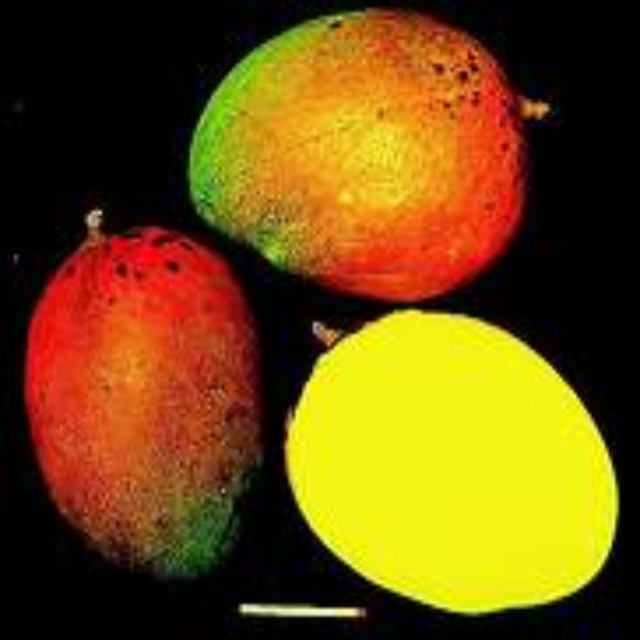mango: (282, 316, 623, 609), (187, 12, 538, 293), (28, 220, 260, 583)
